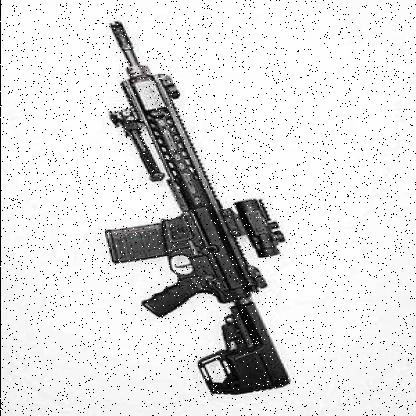rifle: (61, 11, 344, 407)
